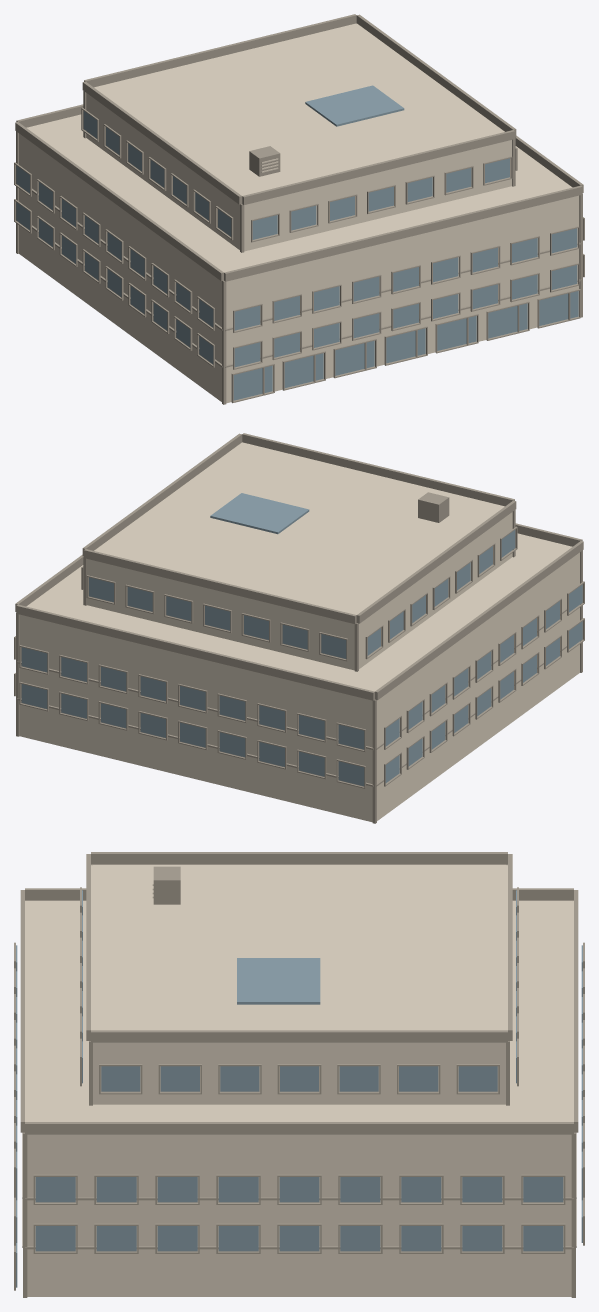
Rendered from lot_4x4.glb.
The picture shows the model from 3 angles, top to bottom: view 1: azimuth 30°, elevation 25°; view 2: azimuth 150°, elevation 25°; view 3: azimuth 270°, elevation 25°; orthographic projection. The views are drawn at different scales.
Visible parts, largest first — view 1: lot_4x4; view 2: lot_4x4; view 3: lot_4x4.
Part boxes in pixels (x1,y1,x2,y2): lot_4x4: (14, 14, 584, 404); lot_4x4: (14, 433, 584, 823); lot_4x4: (14, 852, 584, 1297).
Bounding box in the file's own units: 31.74 × 15.5 × 31.74.
